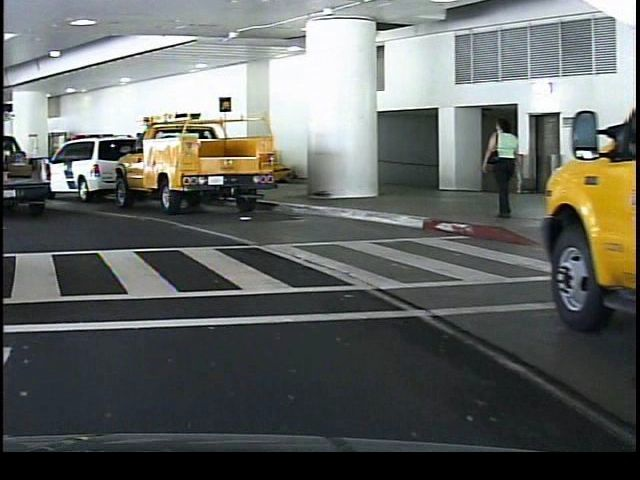person: (478, 111, 520, 222)
